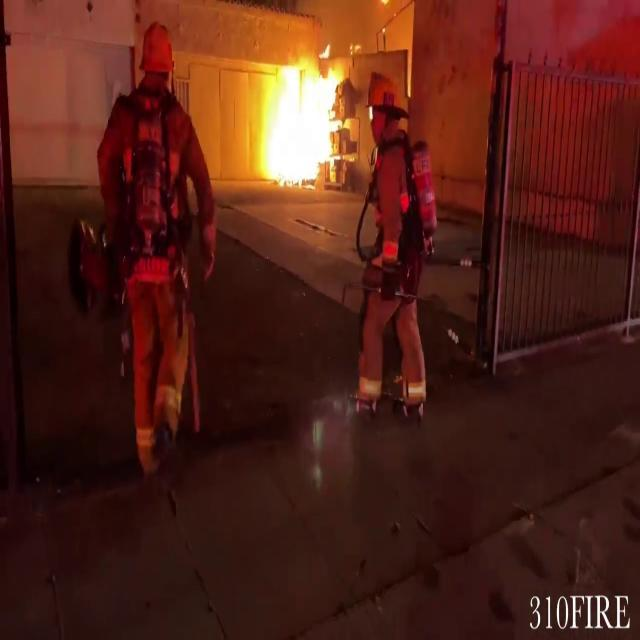Fire: (253, 46, 355, 191)
